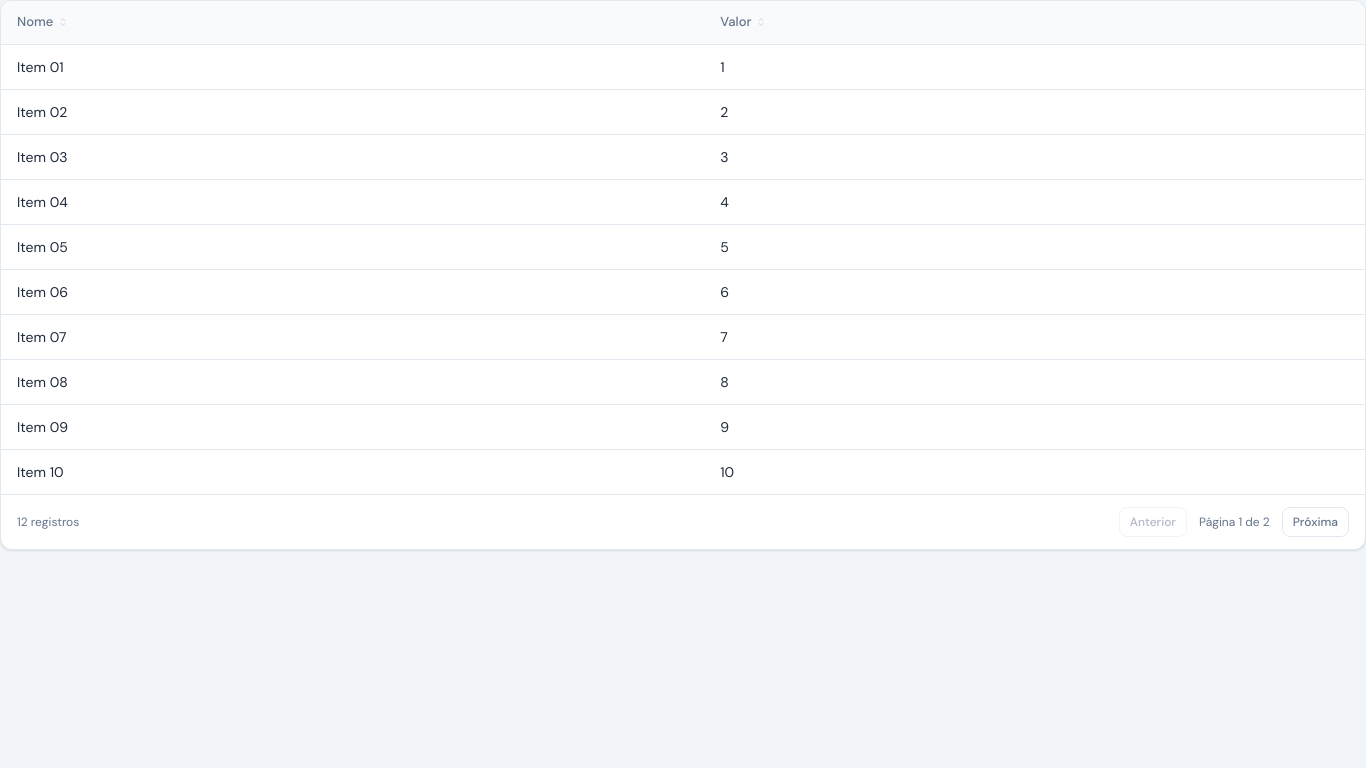
DataTable — paginação com pageSize › ordena o conjunto completo (não só a página) e mantém a página ao ordenar
Click the button with test id "data-table-next" at {"x": 1315, "y": 522}, box [1282,507,1349,537]
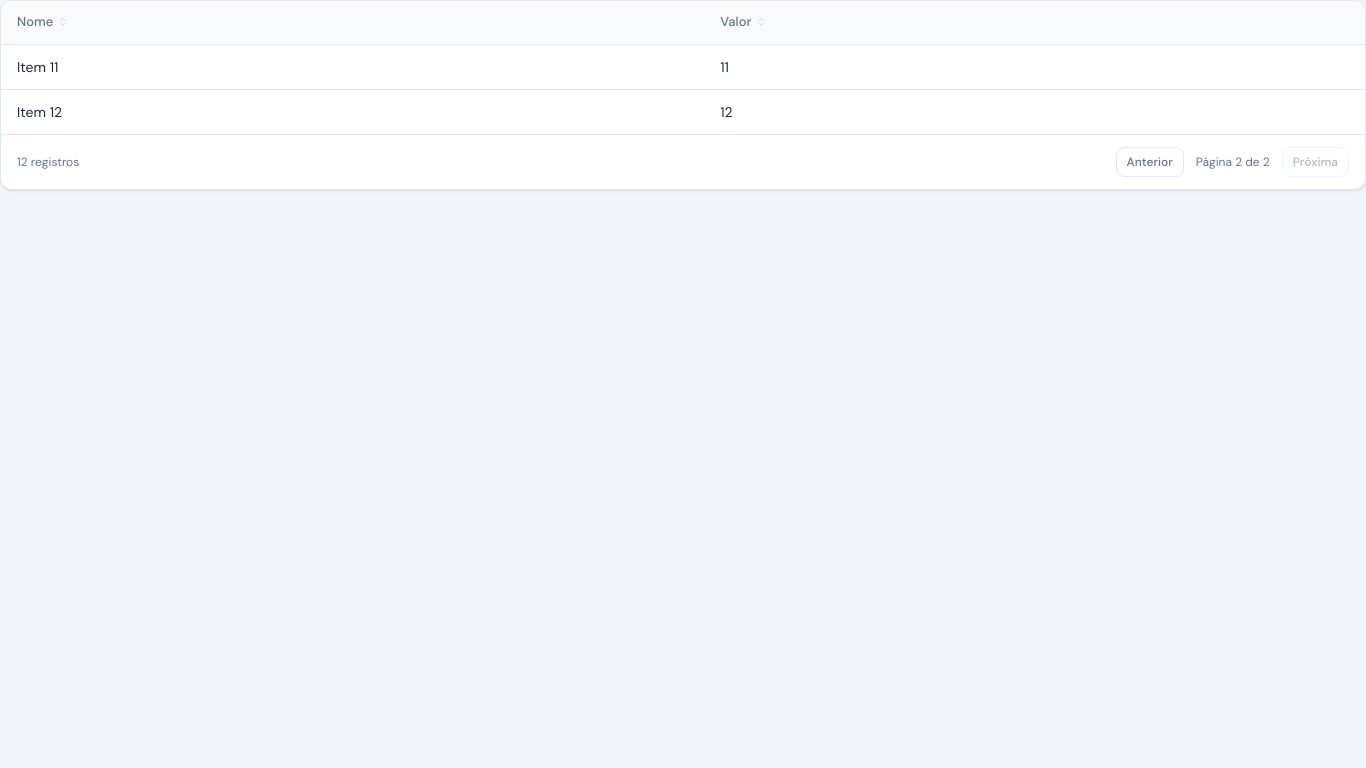
Click the text "Valor" at {"x": 744, "y": 22}, box [720,13,768,30]
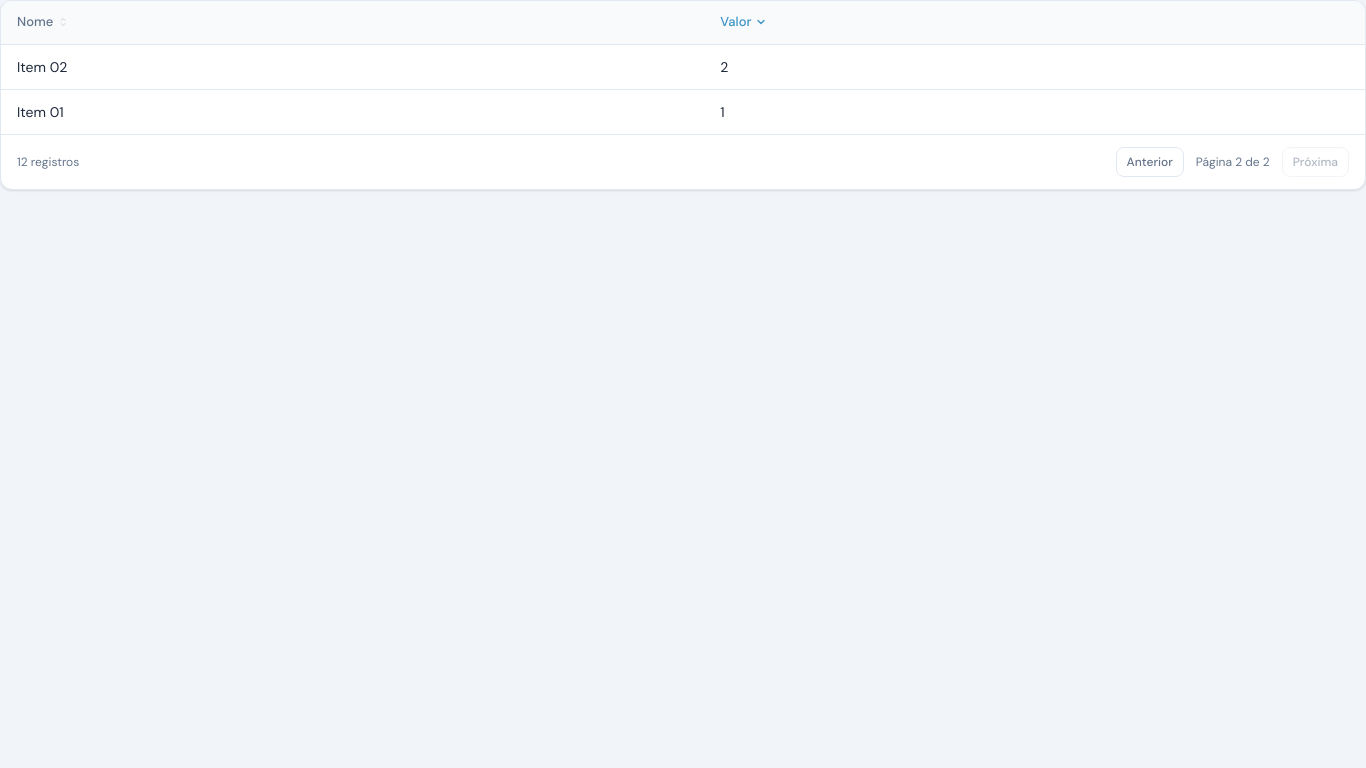
Expected: the text with test id "data-table-page-info" reads "Página 2 de 2", [1196,153,1270,171]
Expected: the text "Item 01" is shown, [1,89,704,134]
Expected: the text "Item 02" is shown, [1,44,704,89]
